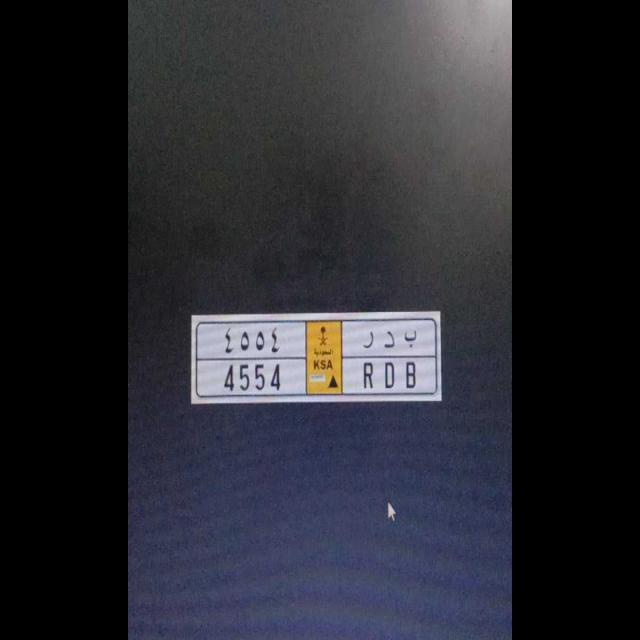license_plate: (196, 358, 436, 394)
